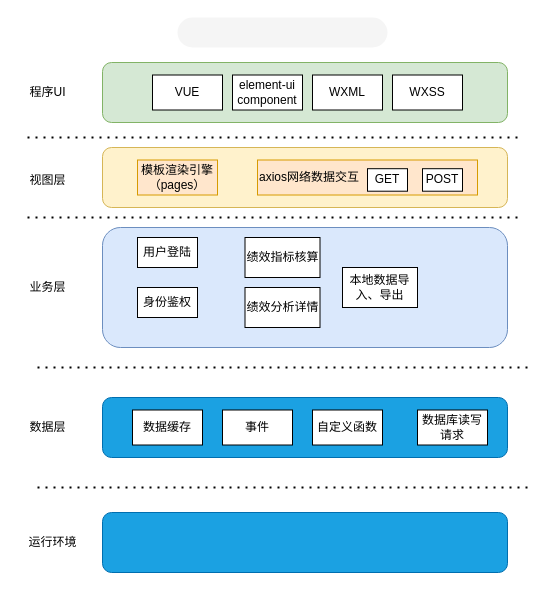
The diagram is 546 pixels wide and 590 high, and some of its shapes have lost their labels. Here are the shapes that lost their labels. From the top down, the centre of each, then its label:
[282,32]: 绩效统计分析管理平台 软件架构图
[305,542]: 任意现代WEB手机浏览器、电脑浏览器、钉钉客户端
